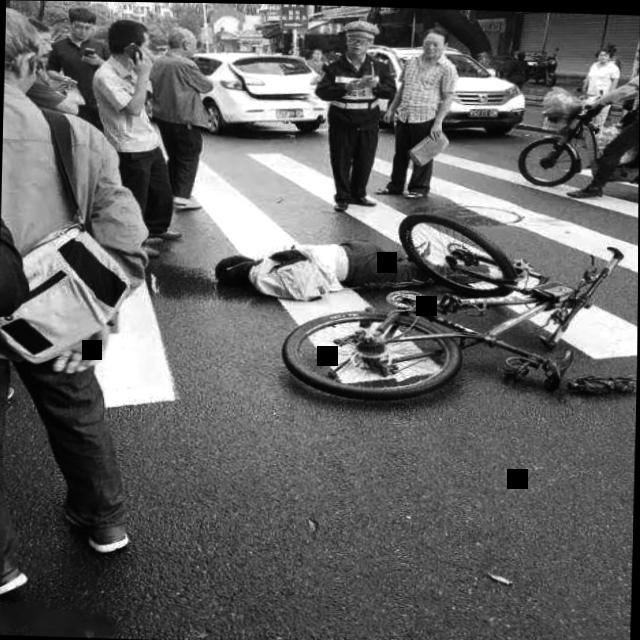Fall-Detected: (201, 214, 493, 319)
